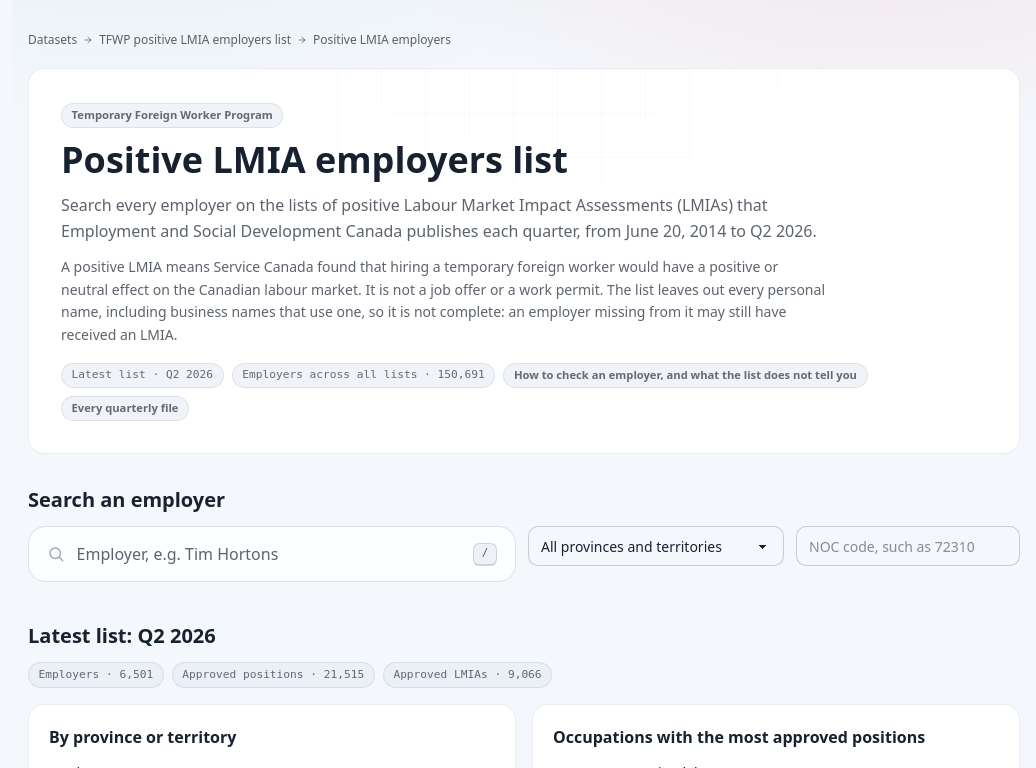
Test: LmiaPage › an occupation that is not a NOC code says so once the box is left, and leaves the search
The width and height of the screenshot is (1036, 768).
In the field labelled "NOC code": x=908, y=546 796,526 -> 1020,566, type "723"
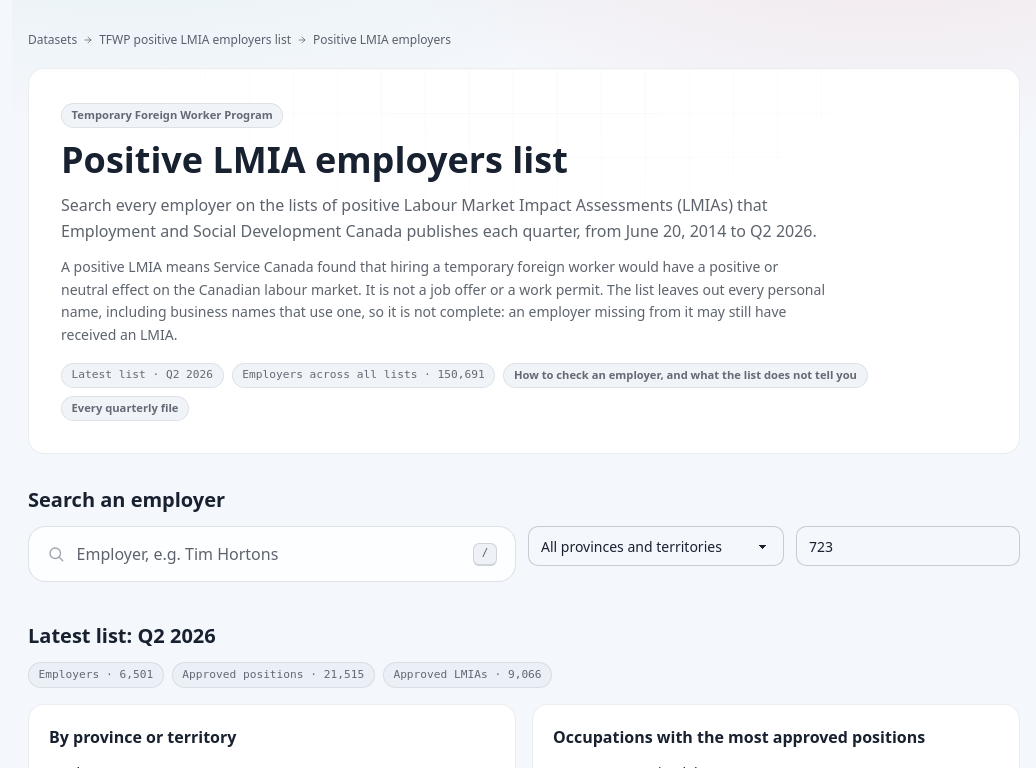
Expected: the text "Enter a 5-digit NOC 2021 code" is not shown
Leave the field named "NOC code", box 796,526 -> 1020,566
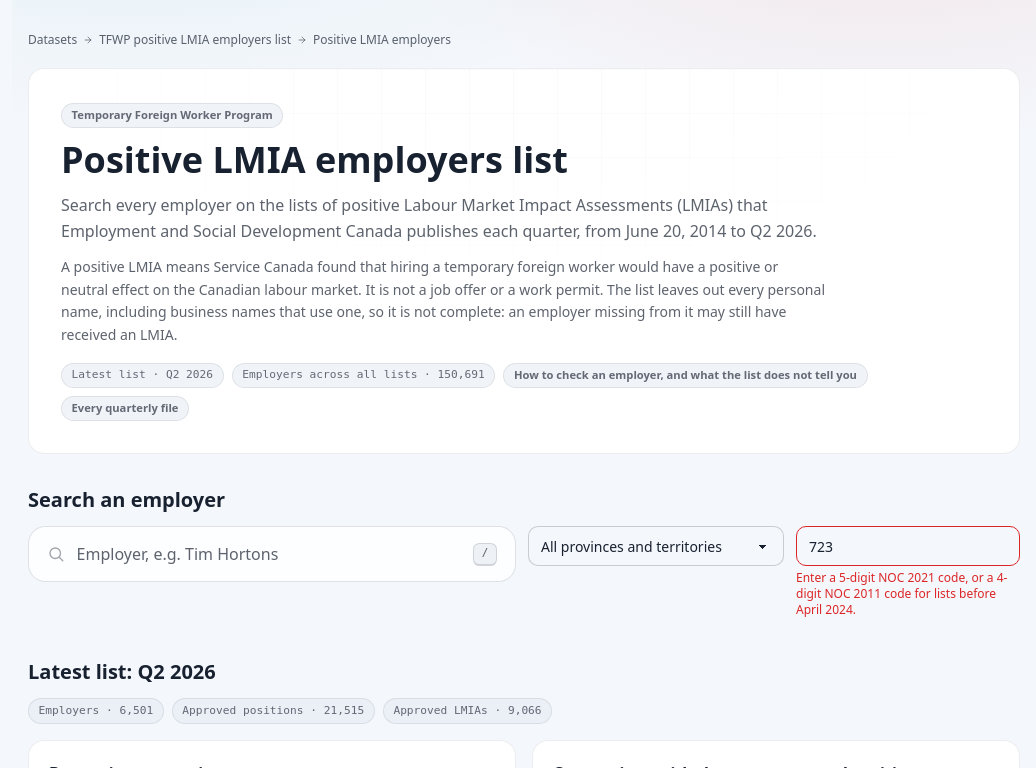
Expected: the text "Enter a 5-digit NOC 2021 code, or a 4-digit NOC 2011 code for lists before April 2024." is shown, 796,569 -> 1008,618
Replace the text in the field named "NOC code" with "72310": x=908, y=546 796,526 -> 1020,566
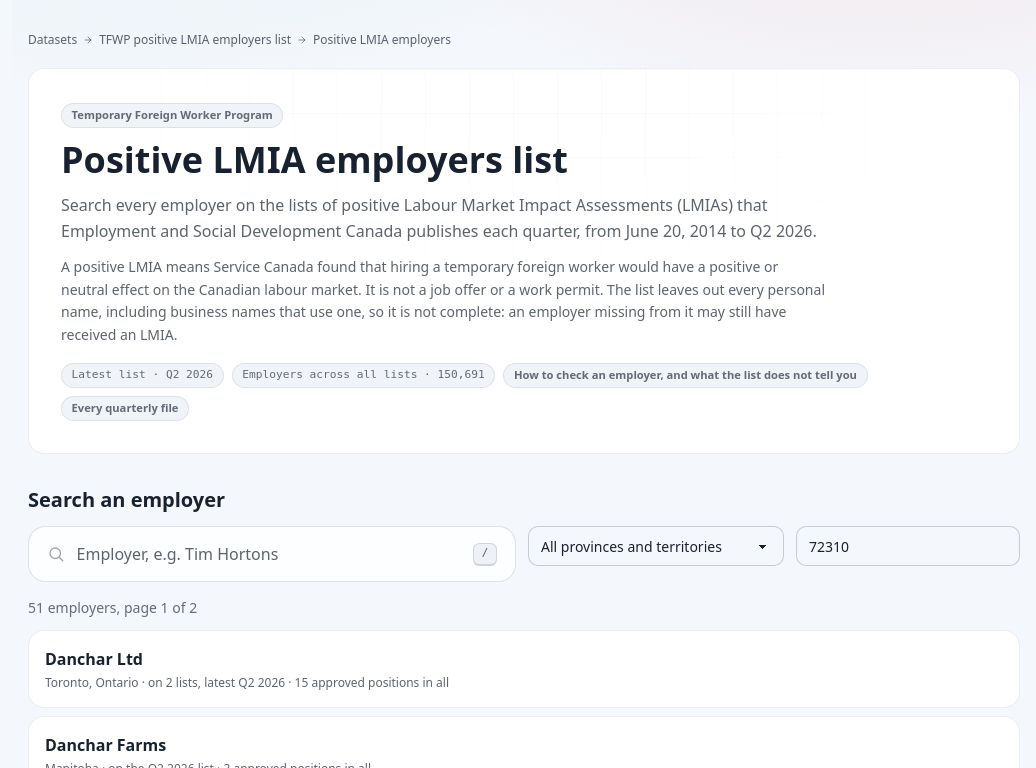
Expected: the field named "NOC code" is not marked as invalid
Replace the text in the field named "NOC code" with "7231x": x=908, y=546 796,526 -> 1020,566
(page scrolled)
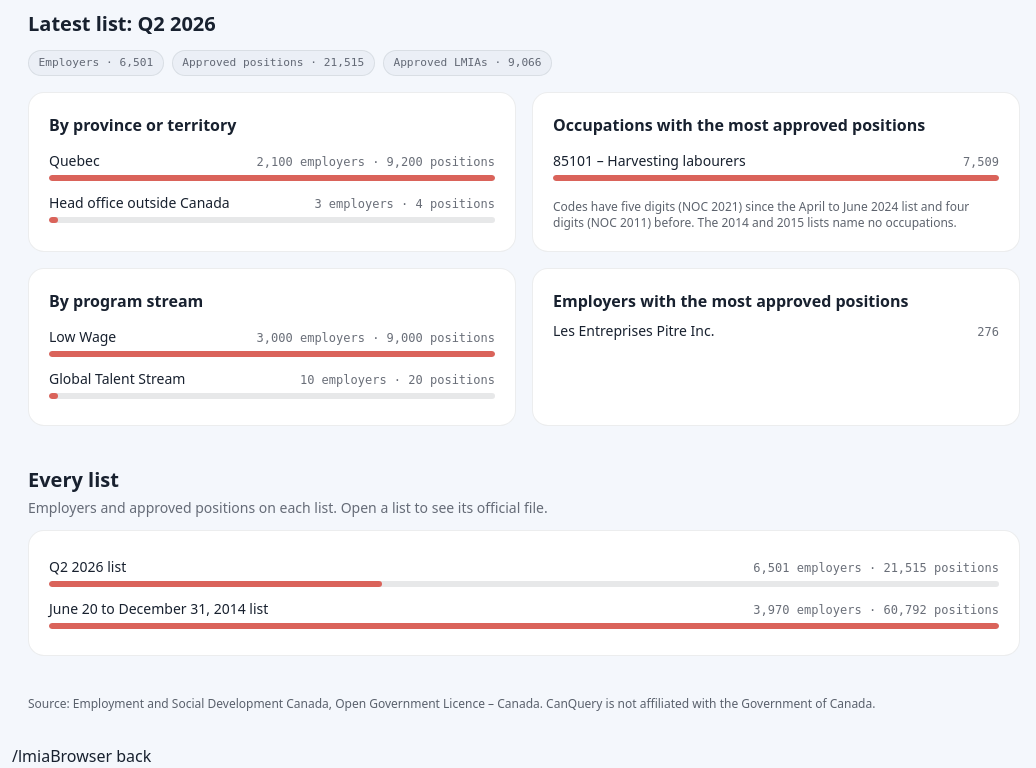
Expected: the text with test id "location" reads "/lmia", 12,744 -> 50,766
